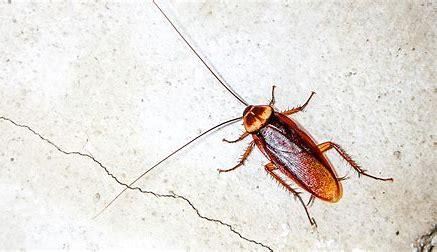cockroach: (126, 29, 407, 233)
